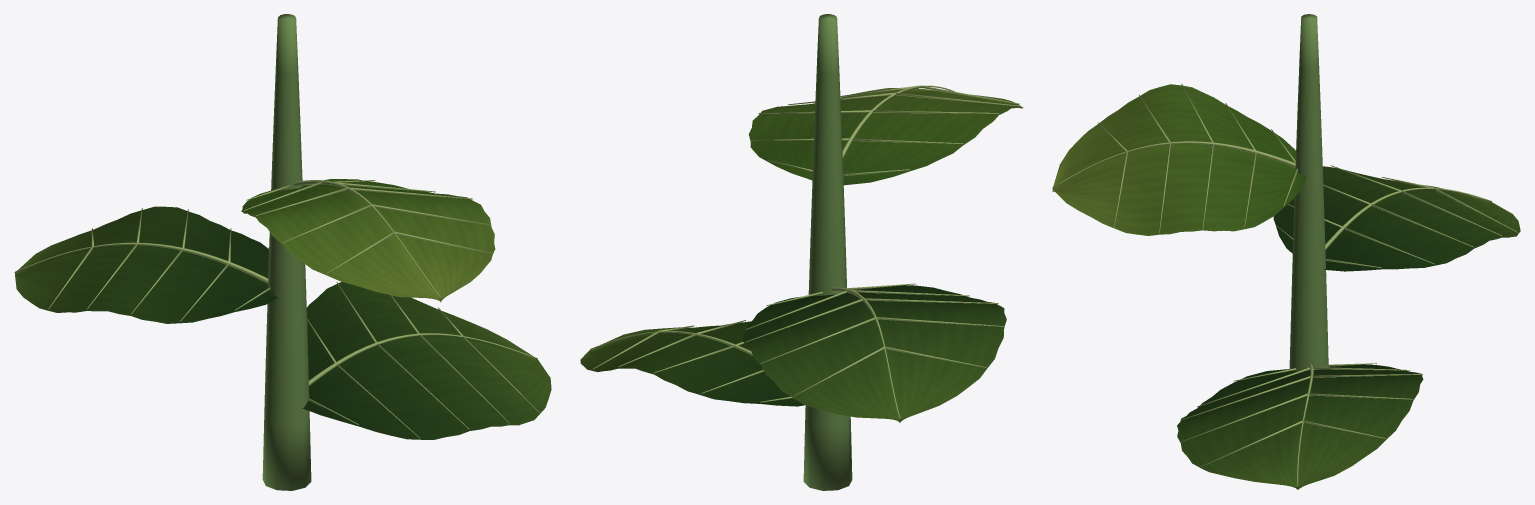
Rendered from sunflower-02.glb.
The picture shows the model from 3 angles, left to right: view 1: azimuth 30°, elevation 25°; view 2: azimuth 150°, elevation 25°; view 3: azimuth 270°, elevation 25°; orthographic projection. The views are drawn at different scales.
Visible parts, largest first — view 1: sunflower_stage_02_leaf_veins.002, sunflower_stage_02_young_leaf.002, sunflower_stage_02_stem_fibres.002, sunflower_stage_02_raised_midveins.002; view 2: sunflower_stage_02_leaf_veins.002, sunflower_stage_02_young_leaf.002, sunflower_stage_02_stem_fibres.002, sunflower_stage_02_raised_midveins.002; view 3: sunflower_stage_02_leaf_veins.002, sunflower_stage_02_young_leaf.002, sunflower_stage_02_stem_fibres.002, sunflower_stage_02_raised_midveins.002.
Part boxes in pixels (box(x1,y1,x2,y2)): sunflower_stage_02_leaf_veins.002: box(15, 206, 551, 439); sunflower_stage_02_young_leaf.002: box(241, 179, 495, 302); sunflower_stage_02_stem_fibres.002: box(262, 14, 311, 490); sunflower_stage_02_raised_midveins.002: box(14, 180, 539, 438); sunflower_stage_02_leaf_veins.002: box(580, 285, 1006, 422); sunflower_stage_02_young_leaf.002: box(748, 87, 1023, 185); sunflower_stage_02_stem_fibres.002: box(803, 14, 852, 490); sunflower_stage_02_raised_midveins.002: box(590, 85, 1019, 419); sunflower_stage_02_leaf_veins.002: box(1177, 166, 1520, 489); sunflower_stage_02_young_leaf.002: box(1052, 84, 1306, 235); sunflower_stage_02_stem_fibres.002: box(1289, 14, 1328, 371); sunflower_stage_02_raised_midveins.002: box(1052, 83, 1518, 486).
Size of the model in its own units: 0.0837 by 0.0834 by 0.0839.
4 materials, 2 textured.
